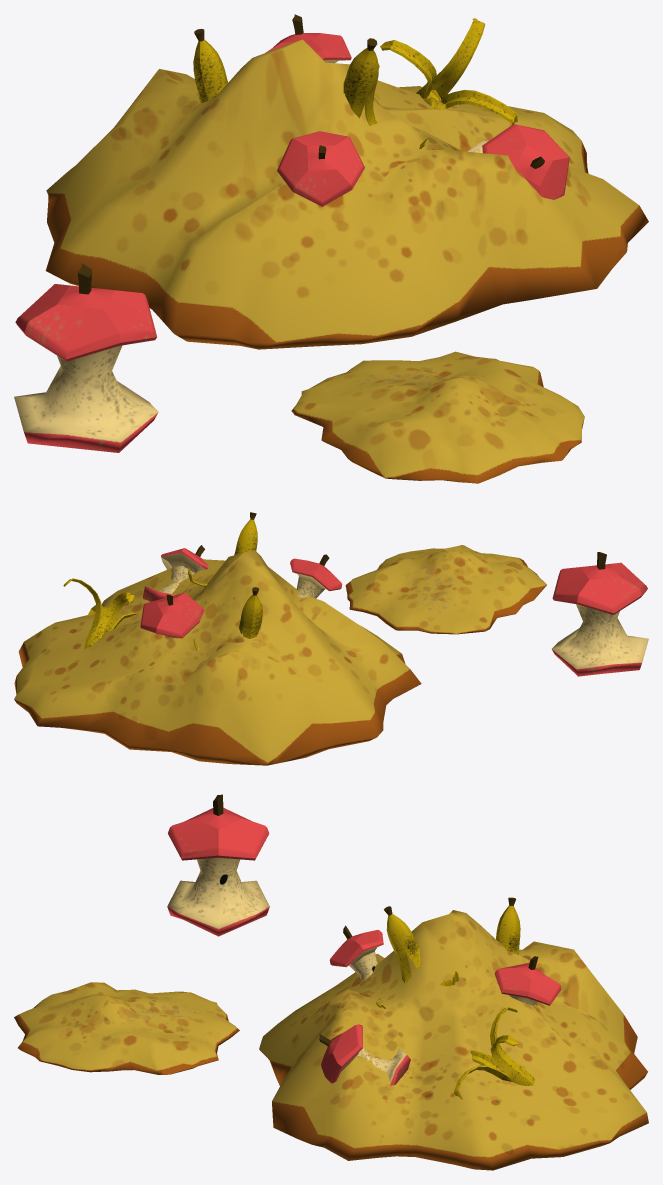
File: AppleOrganic.fbx
3 renders of one model, top to bottom at view 1: azimuth 30°, elevation 25°; view 2: azimuth 150°, elevation 25°; view 3: azimuth 270°, elevation 25°, orthographic. The views are drawn at different scales.
Visible parts, largest first — view 1: Composta, Organic_splash, Apple; view 2: Composta, Organic_splash, Apple; view 3: Composta, Organic_splash, Apple.
Boxes of the visible parts, <box> form: Composta: <box>45,14,648,349</box>; Organic_splash: <box>291,351,584,483</box>; Apple: <box>14,263,158,452</box>; Composta: <box>14,512,421,765</box>; Organic_splash: <box>345,545,546,634</box>; Apple: <box>552,552,648,676</box>; Composta: <box>259,897,648,1170</box>; Organic_splash: <box>14,982,239,1074</box>; Apple: <box>167,794,269,936</box>.
Size of the model in its own units: 1.1 by 0.3227 by 1.11.
